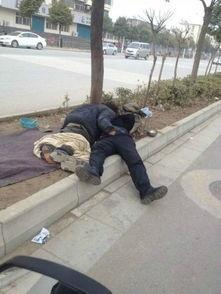Fall-Detected: (31, 93, 114, 178)
